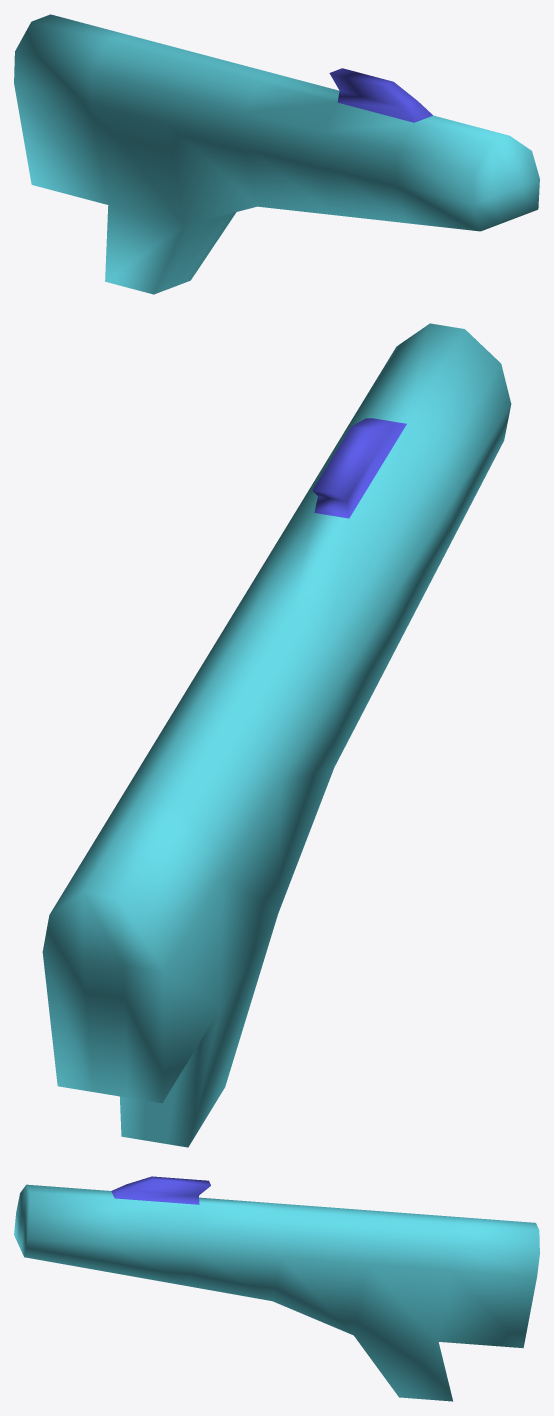
The model's file is gun.gltf.
3 renders of one model, top to bottom at view 1: azimuth 30°, elevation 25°; view 2: azimuth 150°, elevation 25°; view 3: azimuth 270°, elevation 25°, orthographic. The views are drawn at different scales.
Visible parts, largest first — view 1: Cube; view 2: Cube; view 3: Cube.
Part boxes in pixels (x1,y1,x2,y2): Cube: [14, 14, 539, 294]; Cube: [42, 323, 511, 1147]; Cube: [14, 1176, 539, 1401].
Size of the model in its own units: 0.0806 by 0.1346 by 0.2695.
